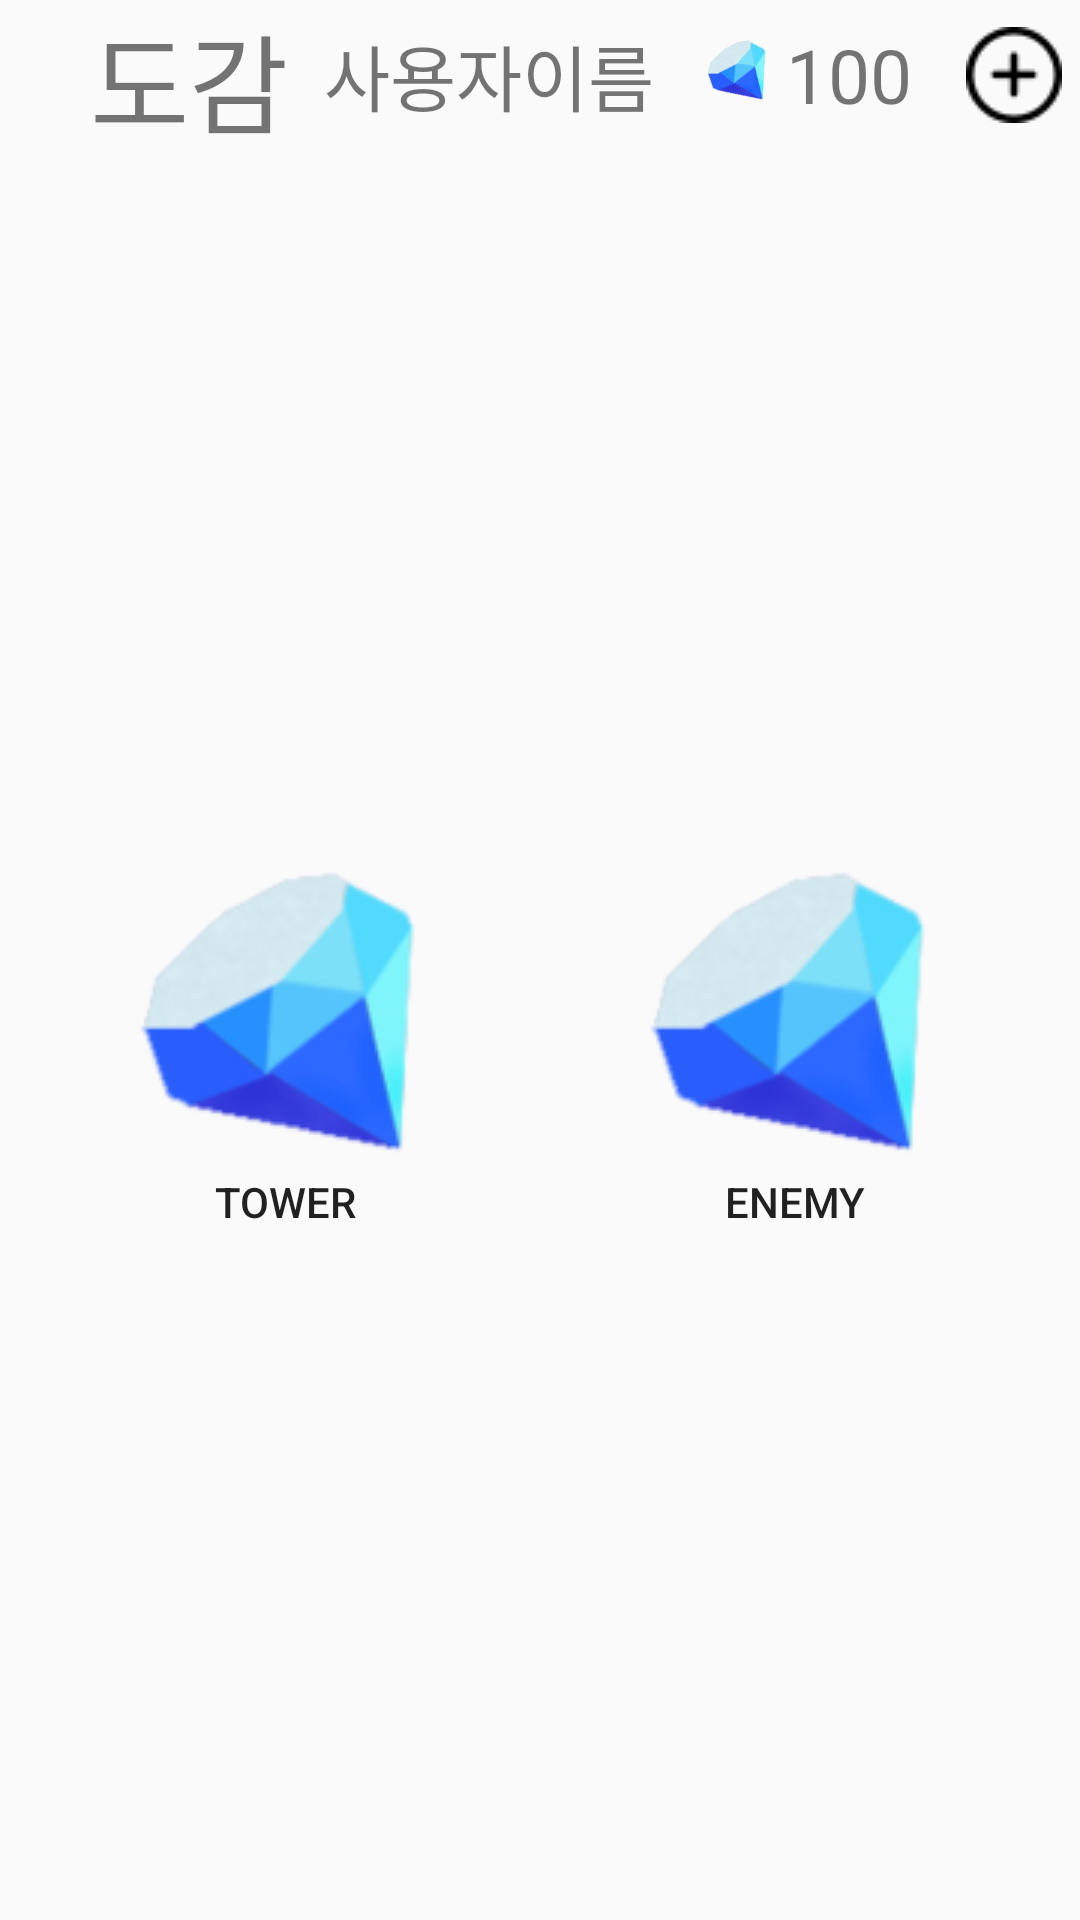

Where icons sit on this 1080 x 1920 app screen, as (x1, y1, x2, y2):
plus: (966, 27, 1062, 123)
